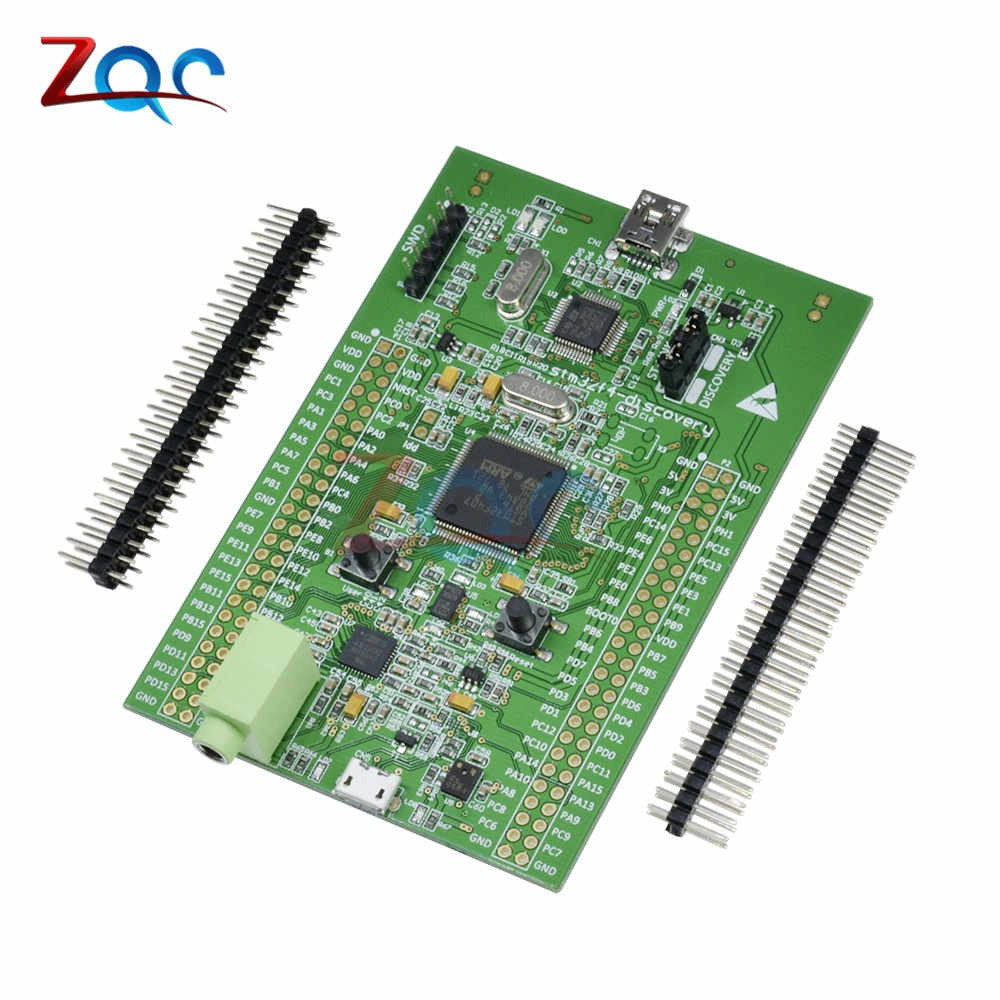STM32F4-DISC: (303, 102, 886, 916)
